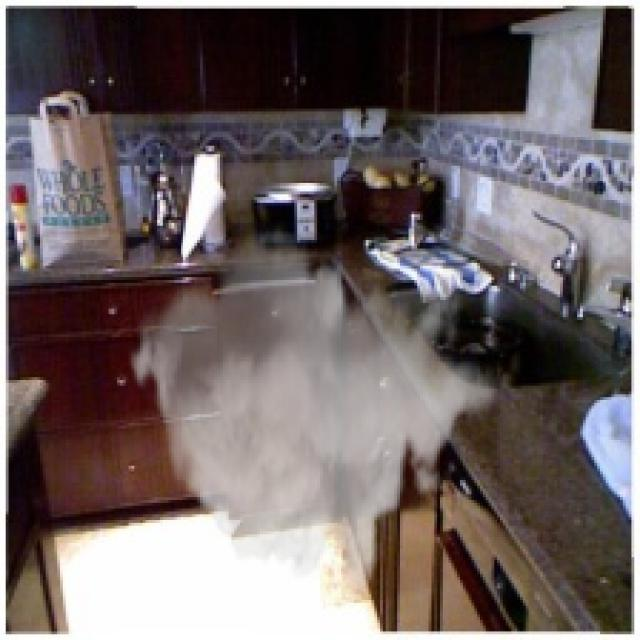smoke: (126, 217, 497, 600)
